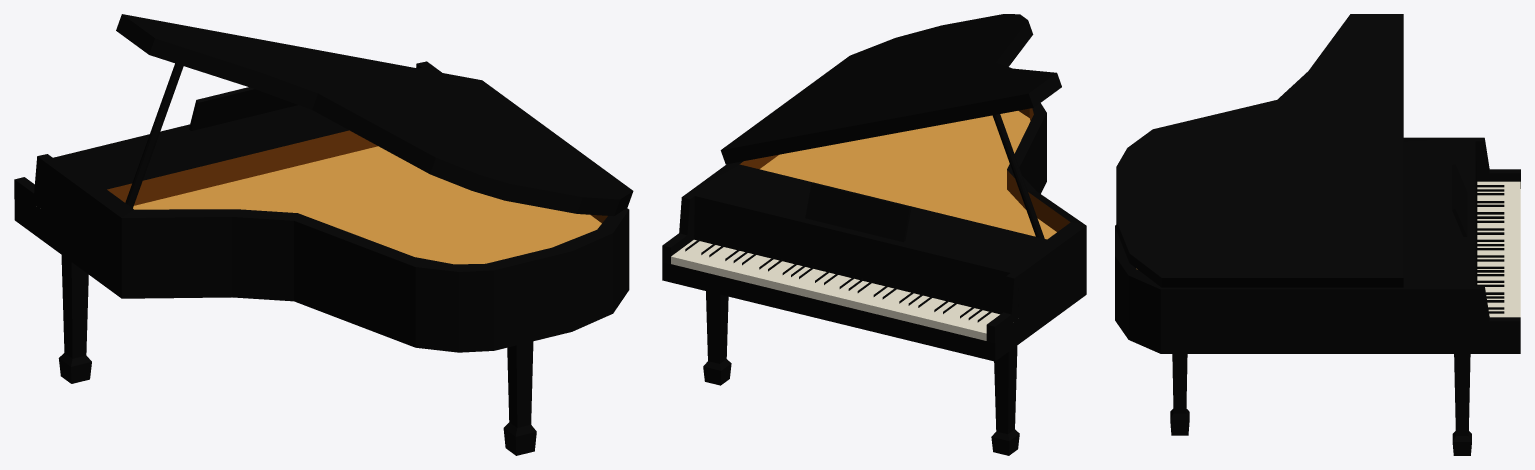
Rendered from LowPolyPiano.glb.
The picture shows the model from 3 angles, left to right: view 1: azimuth 30°, elevation 25°; view 2: azimuth 150°, elevation 25°; view 3: azimuth 270°, elevation 25°; orthographic projection. The views are drawn at different scales.
Visible parts, largest first — view 1: Lid; view 2: Lid; view 3: Lid.
Boxes of the visible parts, x1=… form: Lid: x1=14, y1=14, x2=633, y2=455; Lid: x1=662, y1=14, x2=1086, y2=455; Lid: x1=1115, y1=14, x2=1520, y2=455.
Size of the model in its own units: 1.72 by 1.66 by 1.92.
